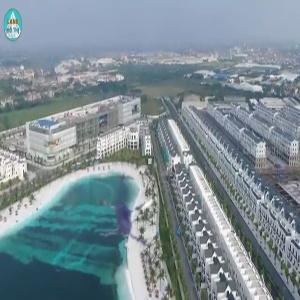drone: (87, 164, 190, 267)
